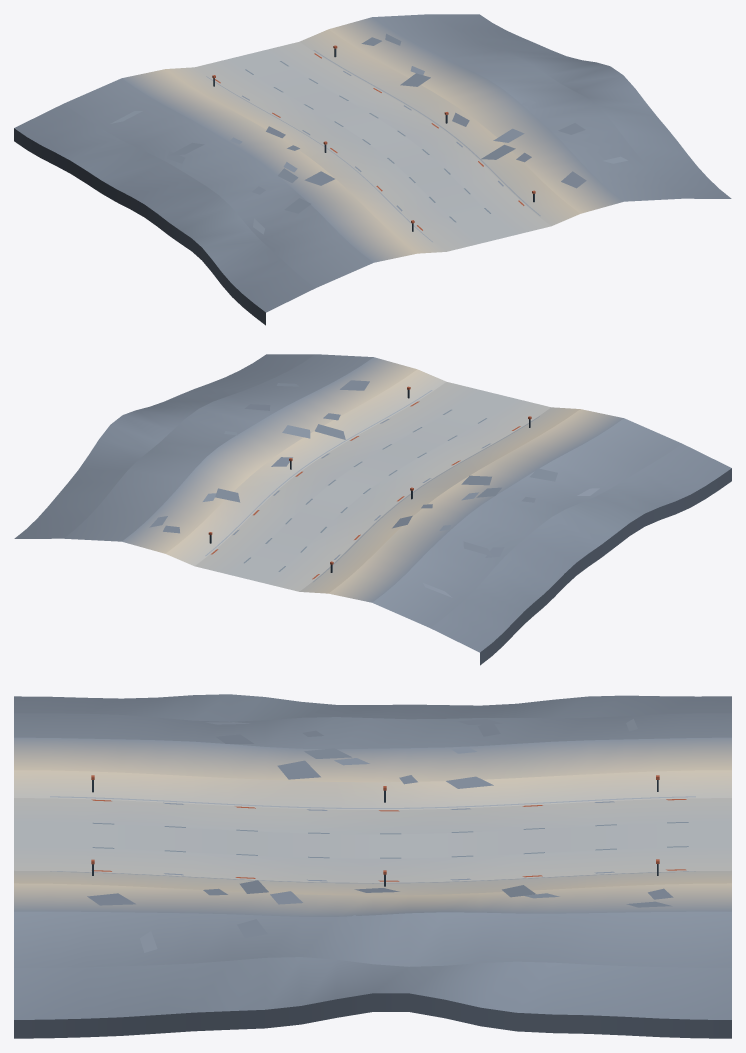
Rendered from 02-gentle_turn.glb.
3 views of the same model, one above another, from view 1: azimuth 30°, elevation 25°; view 2: azimuth 150°, elevation 25°; view 3: azimuth 270°, elevation 25° (orthographic). The views are drawn at different scales.
Visible parts, largest first — view 1: gentle_turn; view 2: gentle_turn; view 3: gentle_turn.
Part boxes in pixels (left/top/right/bottom): gentle_turn: left=14, top=14, right=731, bottom=325; gentle_turn: left=14, top=354, right=731, bottom=665; gentle_turn: left=14, top=694, right=731, bottom=1038.
Bounding box in the file's own units: 33.2 × 2.9 × 30.
